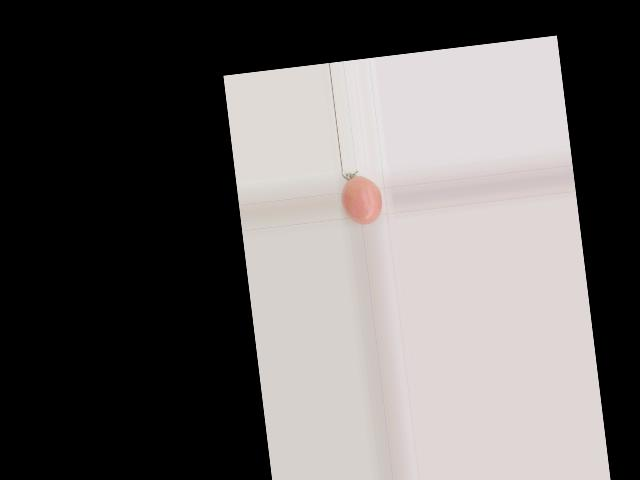tomato: (339, 173, 384, 226)
